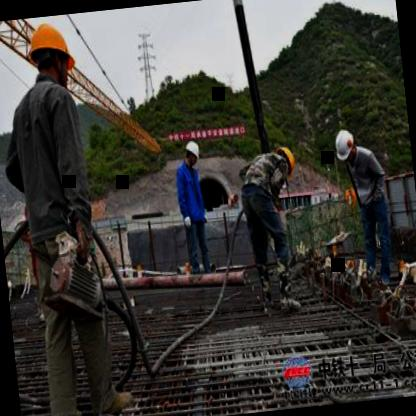helmet: (23, 13, 78, 94), (330, 126, 359, 166), (276, 142, 298, 178), (182, 138, 201, 168)
